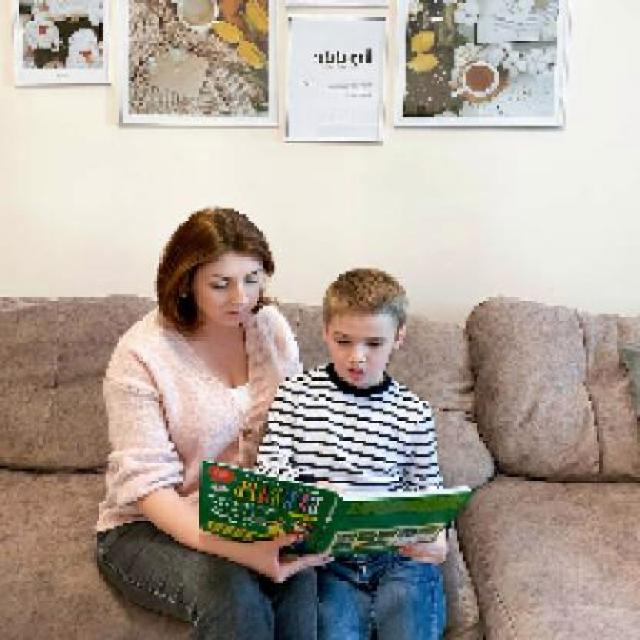child: (248, 265, 448, 638)
